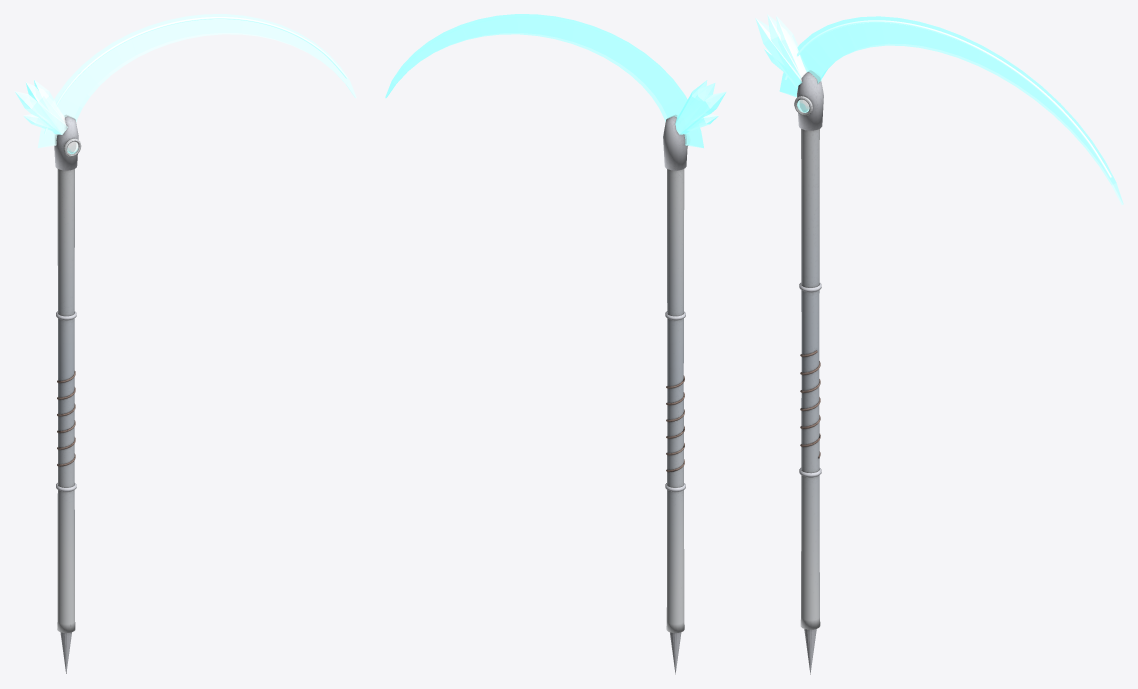
The model's file is arma_lend_foice_gelo.glb.
3 renders of one model, left to right at view 1: azimuth 30°, elevation 25°; view 2: azimuth 150°, elevation 25°; view 3: azimuth 330°, elevation 25°, orthographic. The views are drawn at different scales.
Parts seen in each view (by area): view 1: arma_lend_foice_gelo, lamina, gume, ac_foice2, ac_foice1; view 2: arma_lend_foice_gelo, lamina, ac_foice2, ac_foice1; view 3: arma_lend_foice_gelo, lamina, gume, ac_foice2, ac_foice1, ac_foice3.
Part boxes in pixels (box(x1,y1,x2,y2)): arma_lend_foice_gelo: box(54, 115, 81, 673); lamina: box(37, 14, 356, 147); gume: box(44, 17, 347, 134); ac_foice2: box(26, 82, 65, 133); ac_foice1: box(14, 91, 67, 134); arma_lend_foice_gelo: box(663, 115, 687, 674); lamina: box(385, 14, 703, 148); ac_foice2: box(675, 83, 715, 133); ac_foice1: box(676, 91, 726, 134); arma_lend_foice_gelo: box(794, 70, 823, 674); lamina: box(779, 16, 1123, 204); gume: box(784, 20, 1111, 177); ac_foice2: box(767, 14, 808, 85); ac_foice1: box(755, 18, 802, 87); ac_foice3: box(776, 16, 805, 75).
Bounding box in the file's own units: 1.25 × 2.2 × 0.0873.
Materials: 8 (1 with a texture image).
